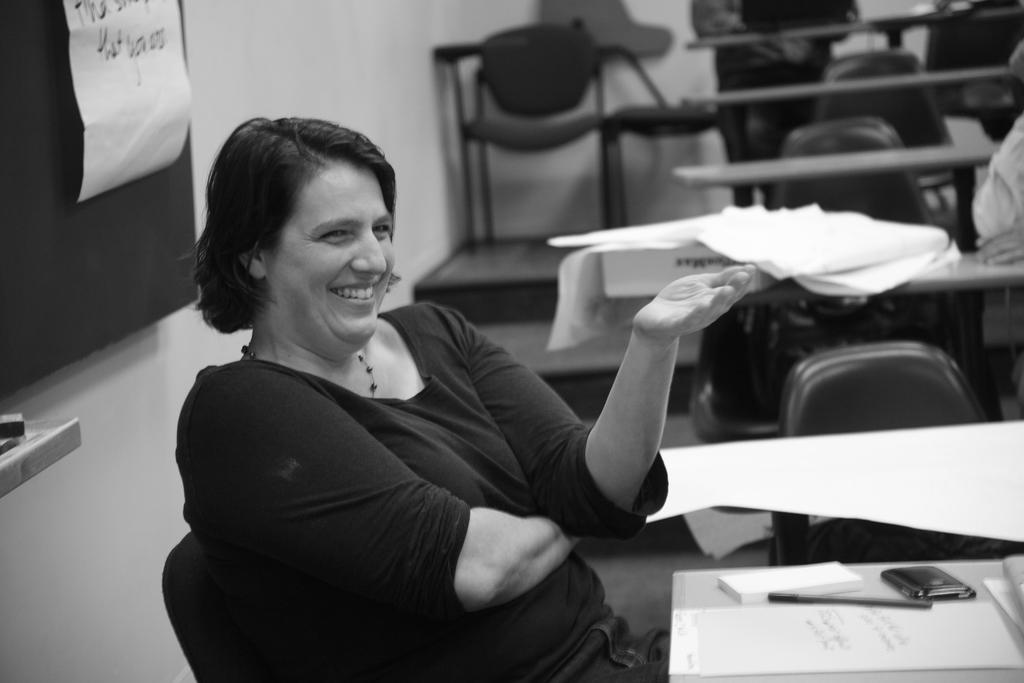Computer-monitor: (1, 0, 205, 398)
